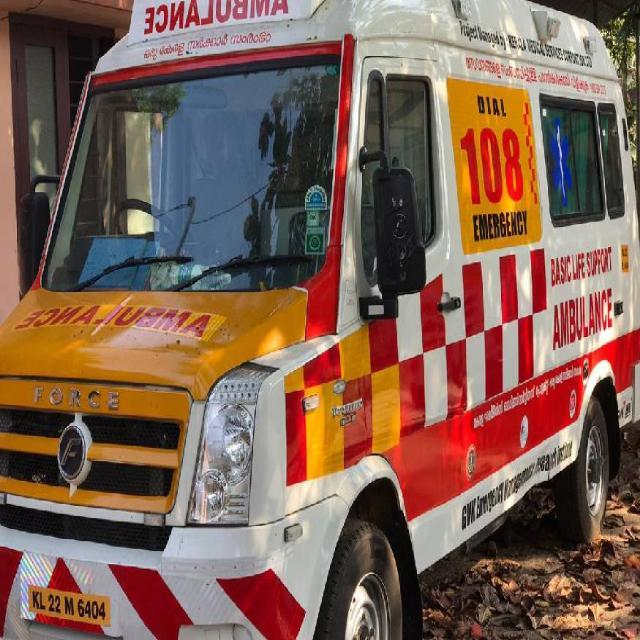ambulance: (2, 2, 640, 640)
